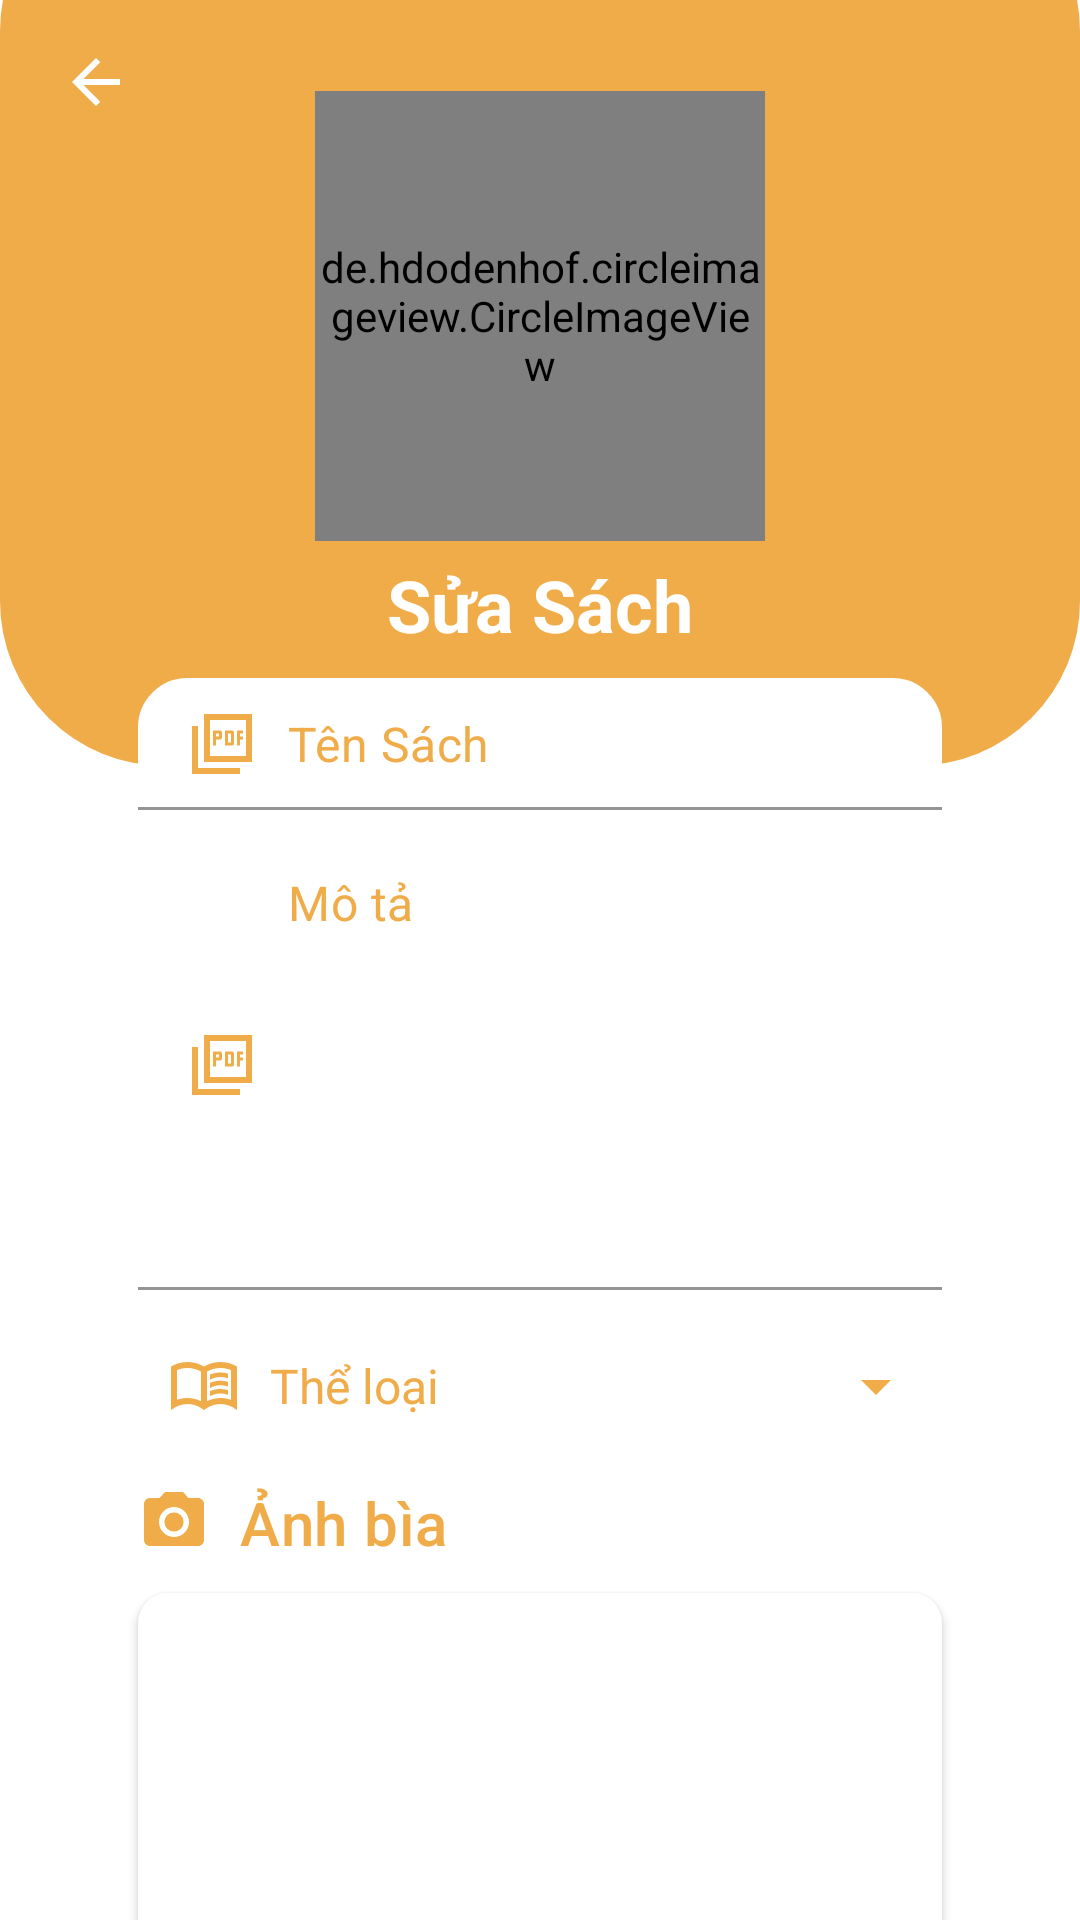

Icons on this 1080 × 1920 Android screen, each with its box as (x1, y1, x2, y2):
Back button: (72, 58, 120, 106)
